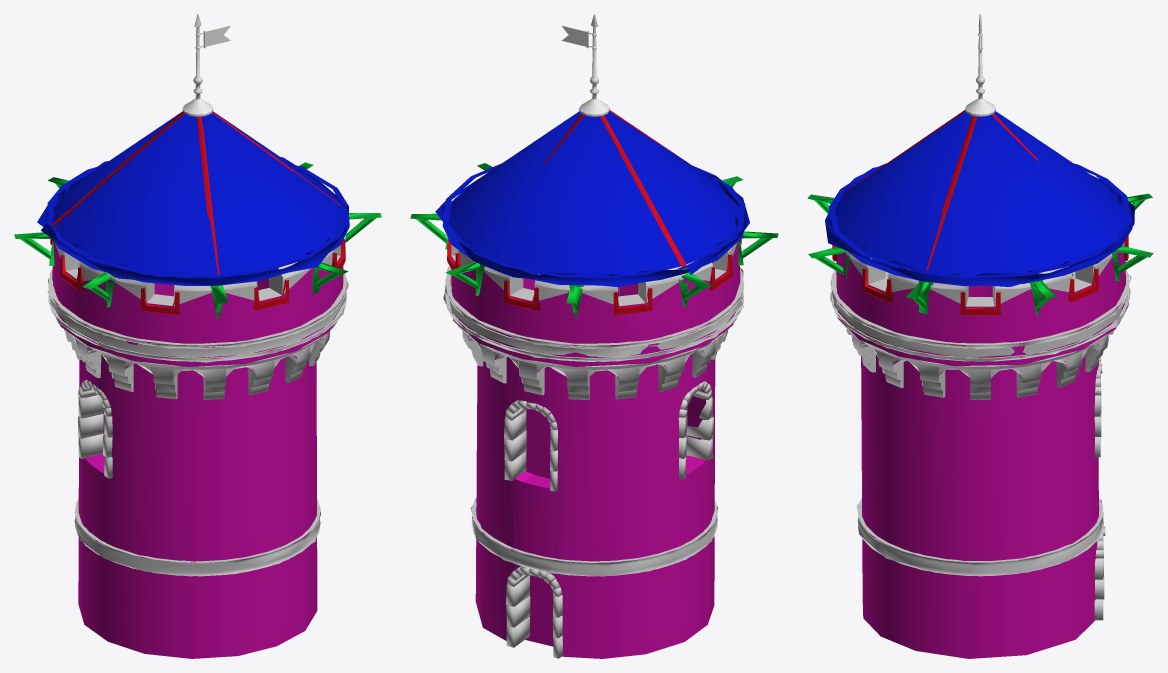
Rendered from Tower_2 (2).fbx.
The picture shows the model from 3 angles, left to right: view 1: azimuth 30°, elevation 25°; view 2: azimuth 150°, elevation 25°; view 3: azimuth 270°, elevation 25°; orthographic projection.
Parts seen in each view (by area): view 1: Tower_1.004, Group_4.010, Group_4.011; view 2: Tower_1.004, Group_4.010, Group_4.011; view 3: Tower_1.004, Group_4.010, Group_4.011.
Part boxes in pixels (box(x1,y1,x2,y2)): Tower_1.004: box(47, 238, 348, 658); Group_4.010: box(14, 111, 381, 319); Group_4.011: box(182, 14, 230, 116); Tower_1.004: box(443, 239, 744, 658); Group_4.010: box(410, 110, 778, 319); Group_4.011: box(561, 14, 609, 116); Tower_1.004: box(830, 235, 1131, 658); Group_4.010: box(807, 110, 1153, 315); Group_4.011: box(965, 14, 995, 116).
Bounding box in the file's own units: 938 × 1786 × 938.
